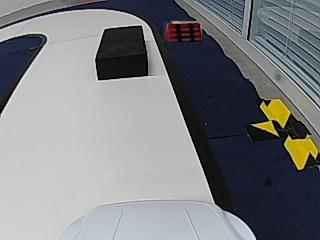block: (94, 25, 148, 79)
